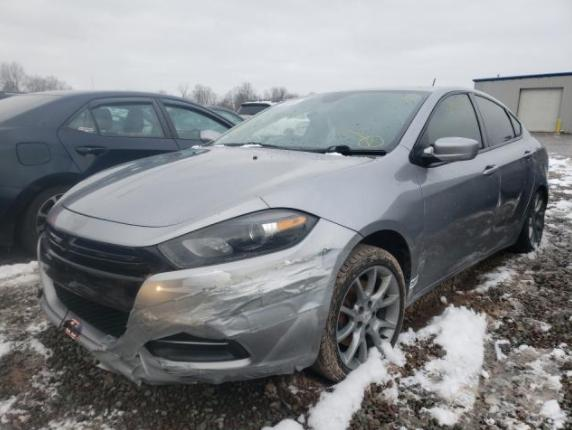Broken part: (38, 214, 365, 382)
Scratch: (410, 275, 417, 289)
